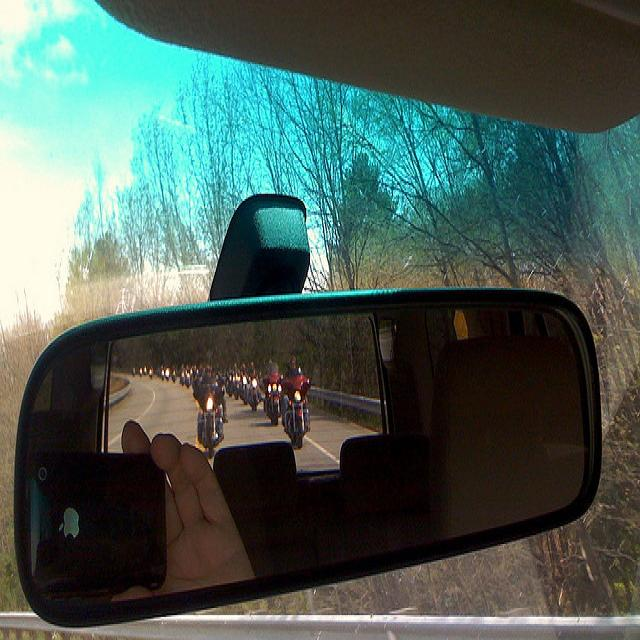motor: (283, 383, 314, 447), (197, 394, 225, 456), (263, 365, 282, 427), (192, 377, 224, 406), (249, 375, 260, 412), (229, 374, 241, 402), (241, 377, 247, 406), (186, 371, 191, 388), (180, 370, 185, 387), (172, 370, 176, 383), (149, 369, 153, 378)
